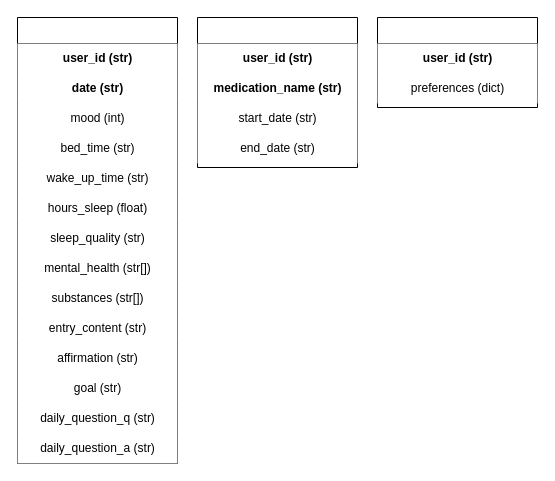
Image size: 555x481. Some labels were removed from this diagram. The box of each missing label's shape, as (x1, y1, x2, y2) in pixels:
JournalEntry: (16, 16, 178, 464)
UserMedication: (196, 16, 358, 168)
UserPreferences: (376, 16, 538, 108)
